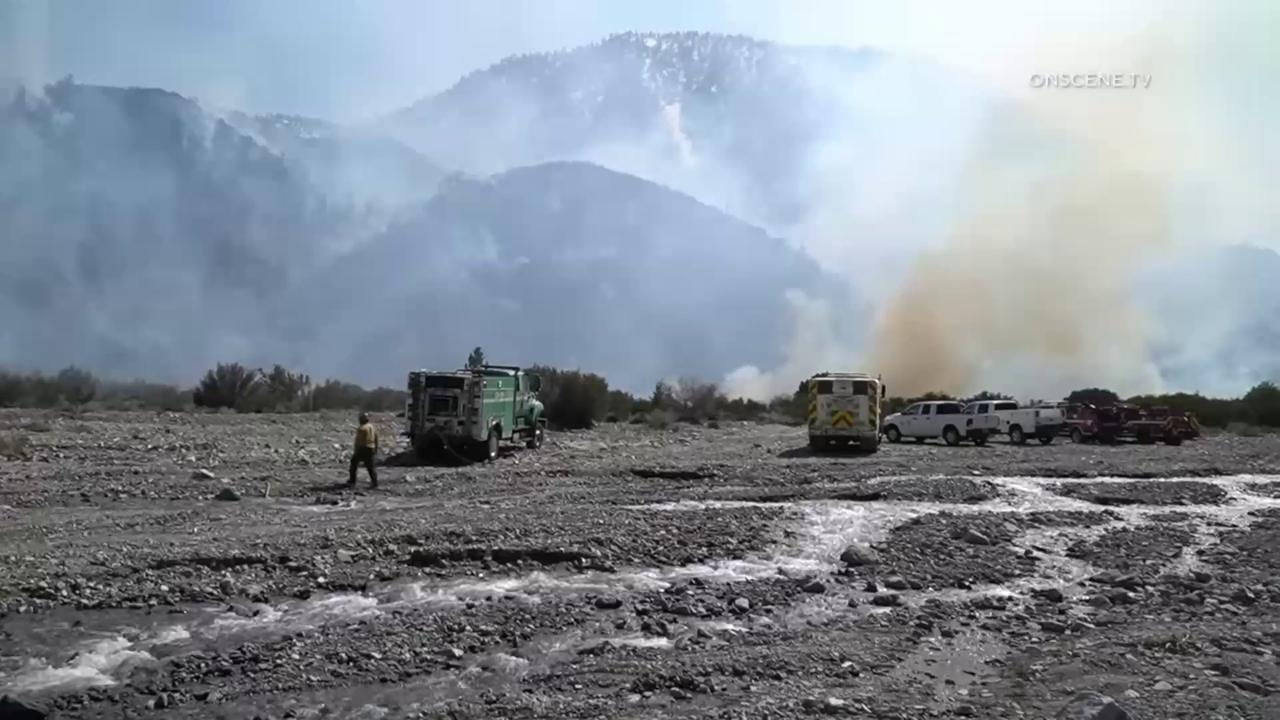smoke: (0, 0, 1280, 406)
